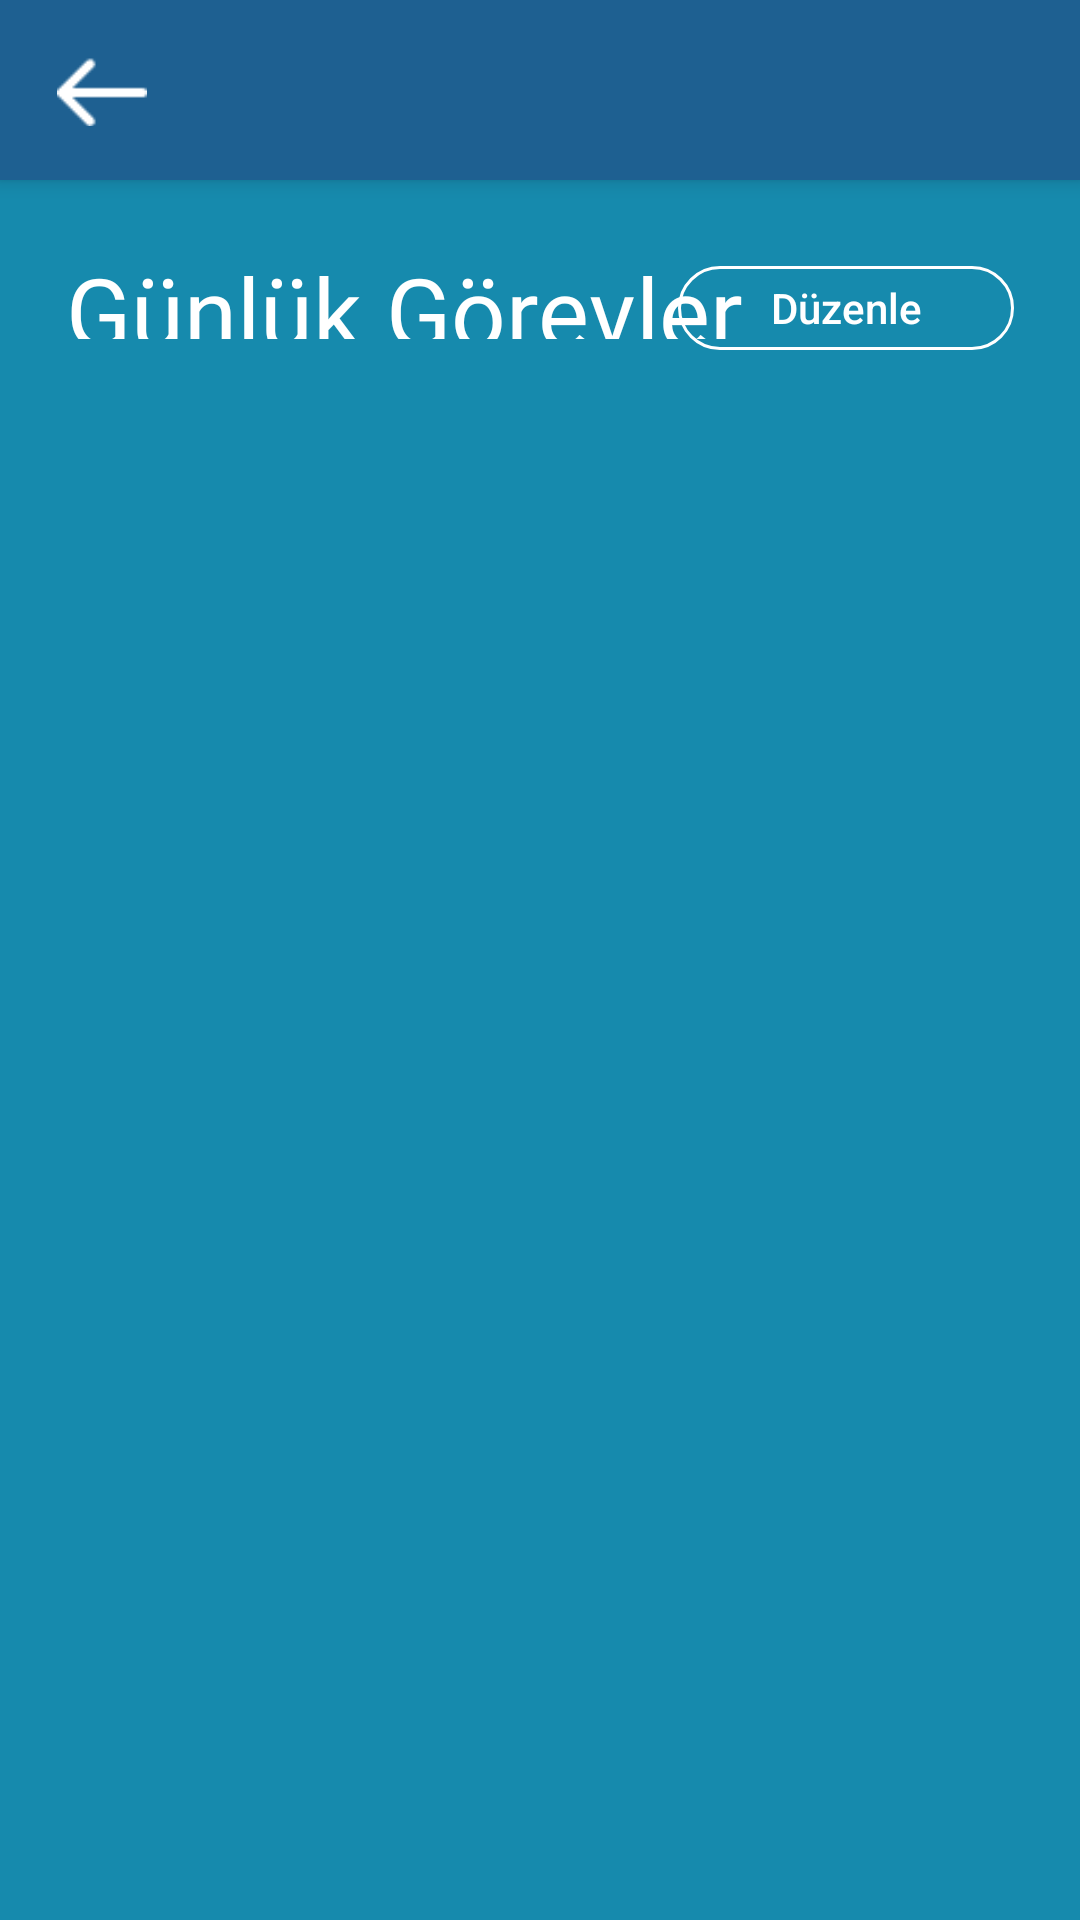

Icon bounding boxes for this 1080 x 1920 phone screenshot, format (x1, y1, x2, y2):
back: (57, 58, 147, 126)
